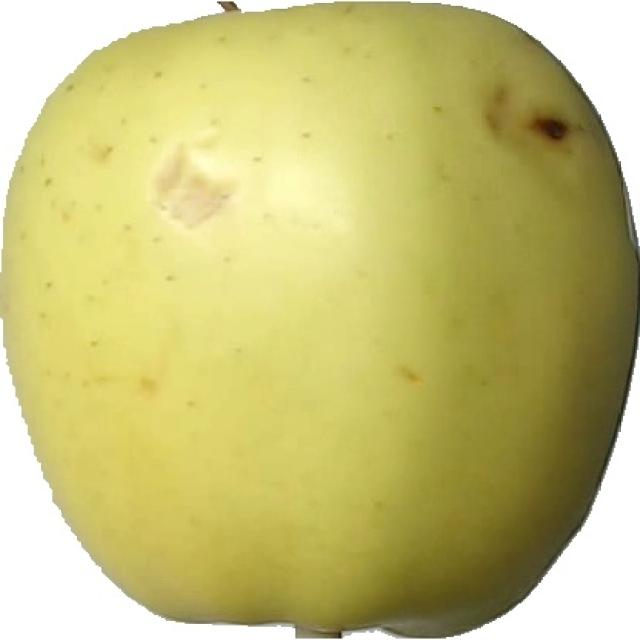Golden Elma: (5, 7, 637, 635)
